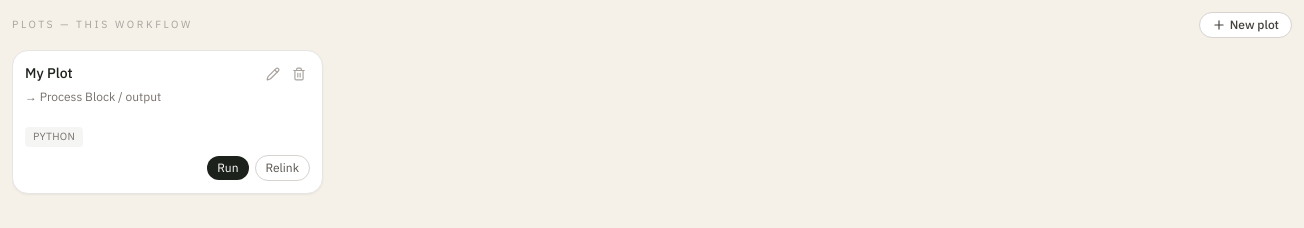
it: PlotsTab › keeps the plot card and shows an error when deletion fails
Click the button named "Delete plot My Plot" at (299, 74), box x1=288 y1=63 x2=310 y2=85
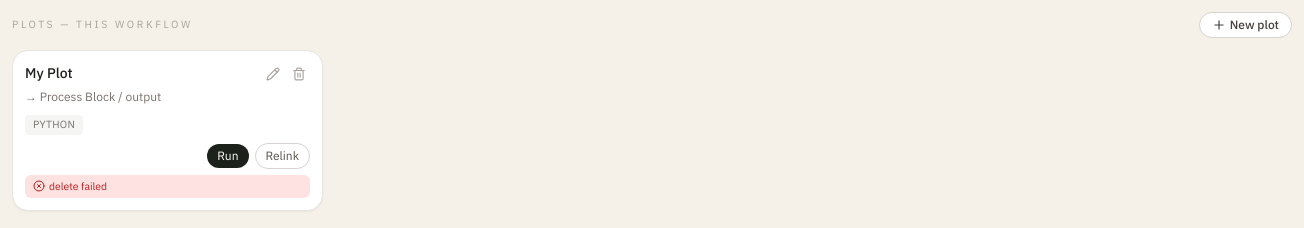
Expected: the element with test id "plot-card-p1" is shown, x1=12 y1=50 x2=323 y2=211
Now the text "delete failed" is shown, box x1=49 y1=179 x2=107 y2=194
